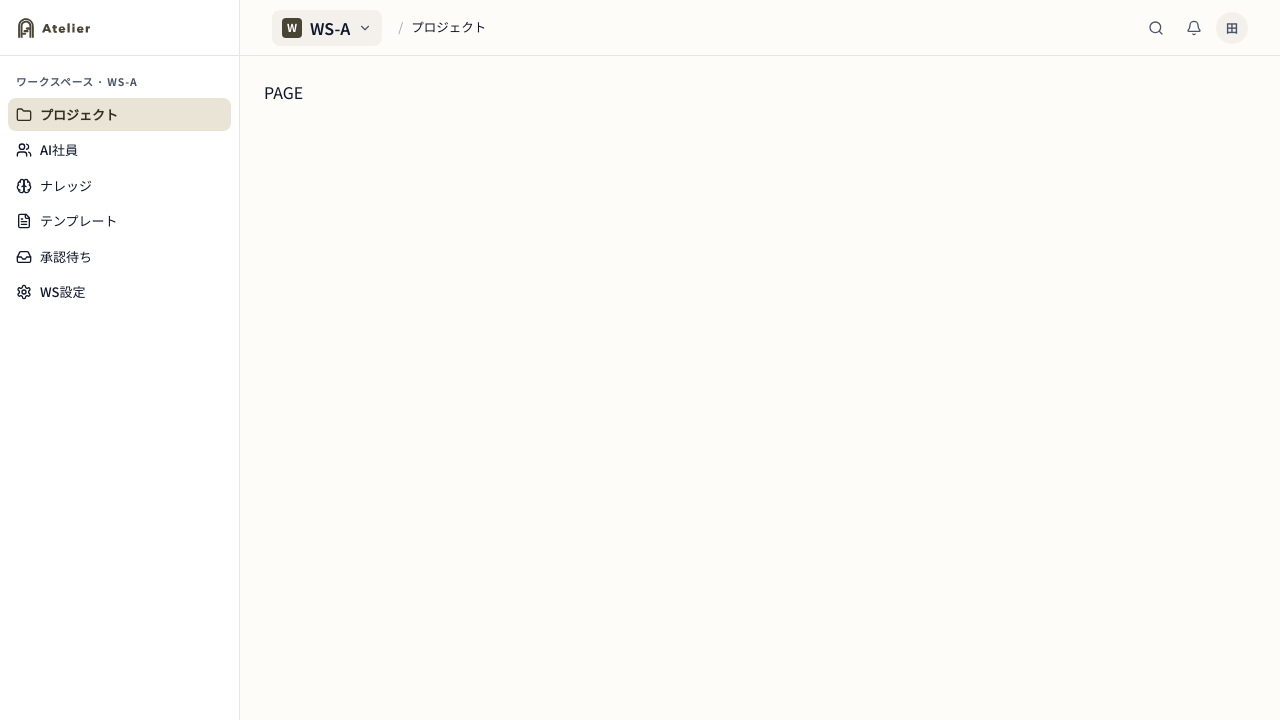
Test: GAP-209 サインアウトの導線 › アバターを押すとメニューが開き、**サインアウト**がある
Click the button named "アカウント: 田中".
click(1232, 28)  # box [1216,12,1248,44]
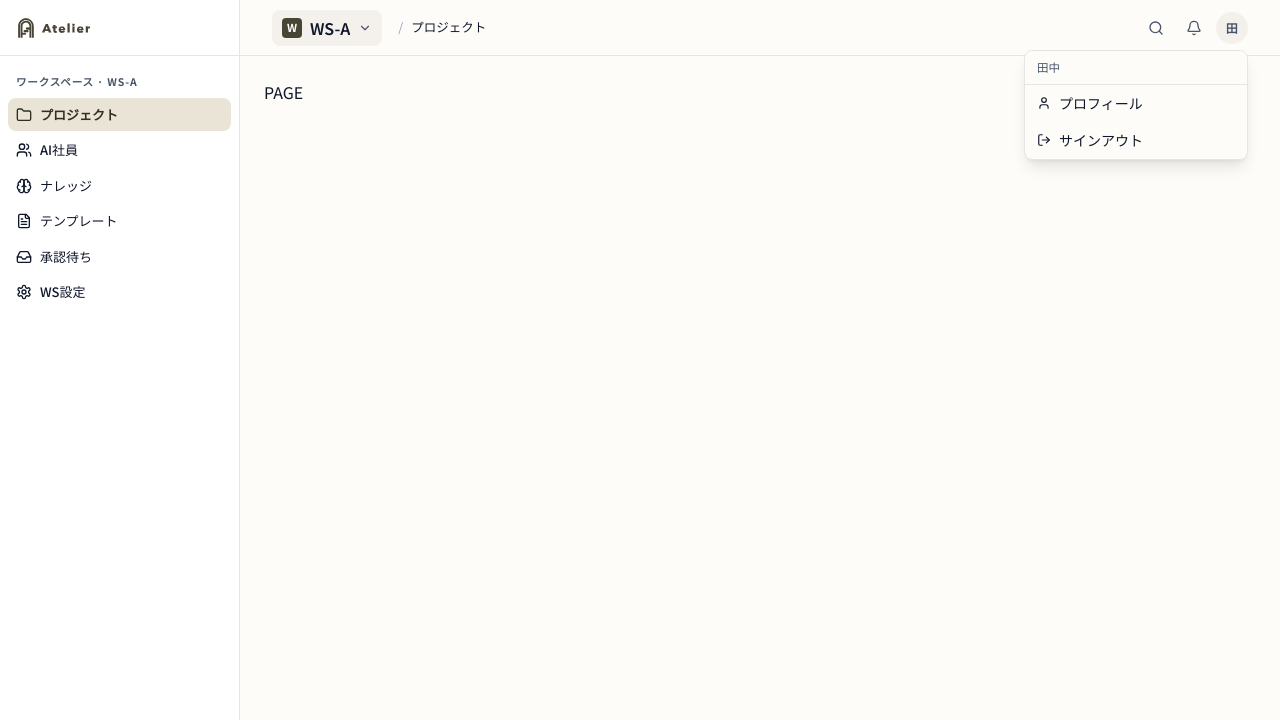
Check: the menu named "アカウントメニュー" is shown, box [1024,50,1248,160]
Check: the menu item "サインアウト" is shown, box [1025,122,1247,159]
